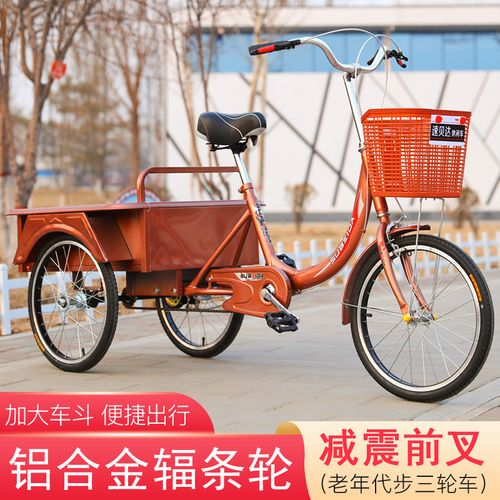empty: (17, 26, 489, 404)
